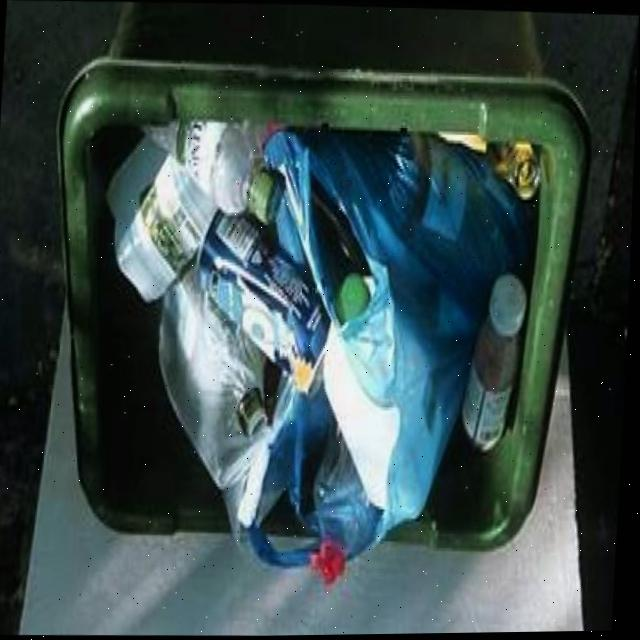Plastic_Bag: (159, 130, 530, 572)
